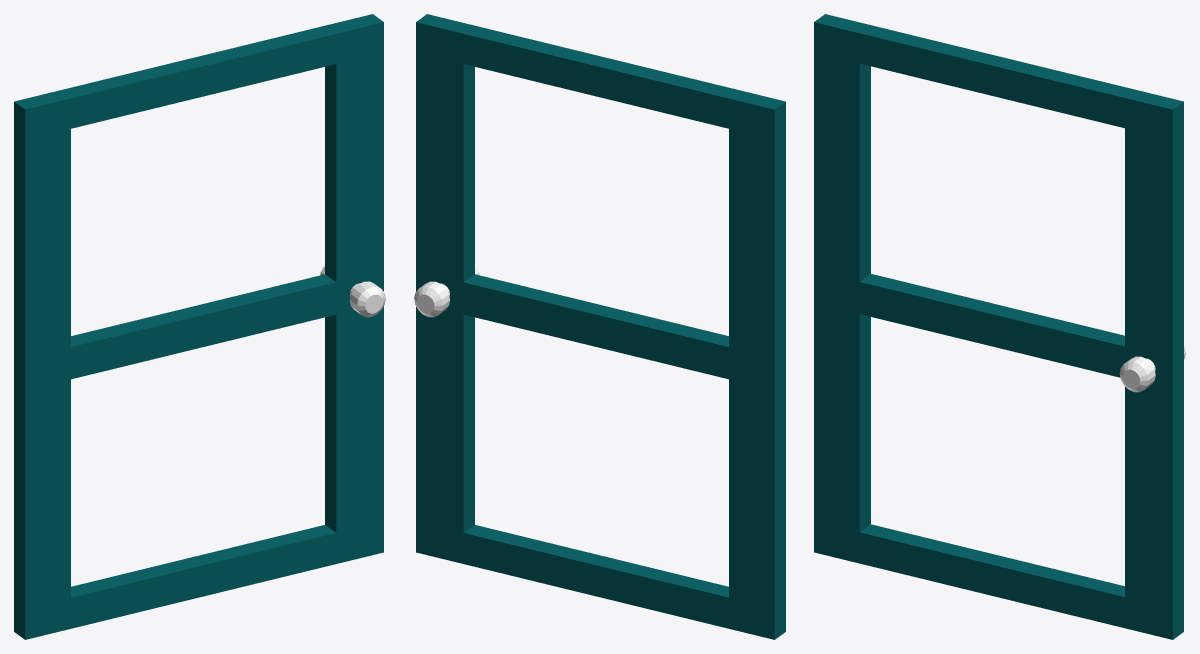
The model's file is Door.fbx.
3 views of the same model, side by side, from view 1: azimuth 30°, elevation 25°; view 2: azimuth 150°, elevation 25°; view 3: azimuth 330°, elevation 25° (orthographic).
Visible parts, largest first — view 1: Door; view 2: Door; view 3: Door.
Boxes of the visible parts, x1=… form: Door: x1=14, y1=14, x2=385, y2=639; Door: x1=414, y1=14, x2=785, y2=639; Door: x1=814, y1=14, x2=1185, y2=639.
Size of the model in its own units: 2 by 2.82 by 0.4146.
